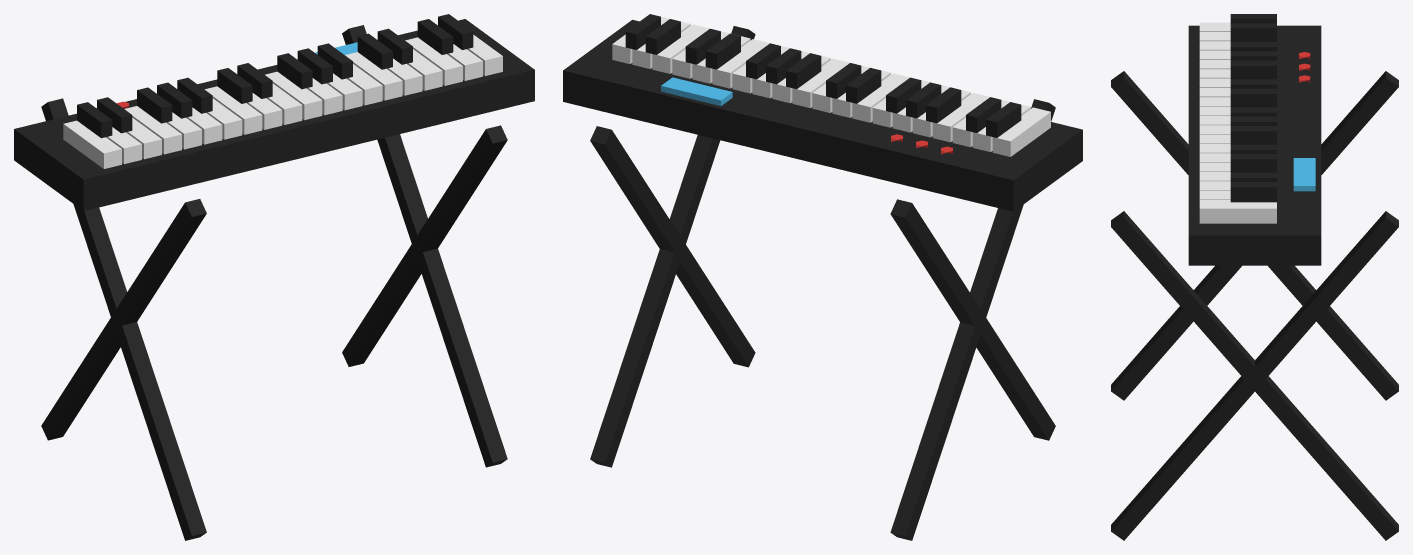
The model's file is keyboard.glb.
3 renders of one model, left to right at view 1: azimuth 30°, elevation 25°; view 2: azimuth 150°, elevation 25°; view 3: azimuth 270°, elevation 25°, orthographic. The views are drawn at different scales.
Visible parts, largest first — view 1: keyboard; view 2: keyboard; view 3: keyboard.
Boxes of the visible parts, x1,y1,x2,y2 form: keyboard: [14, 14, 534, 540]; keyboard: [563, 14, 1082, 540]; keyboard: [1111, 14, 1398, 540].
Bounding box in the file's own units: 0.9 × 0.7327 × 0.5208.
